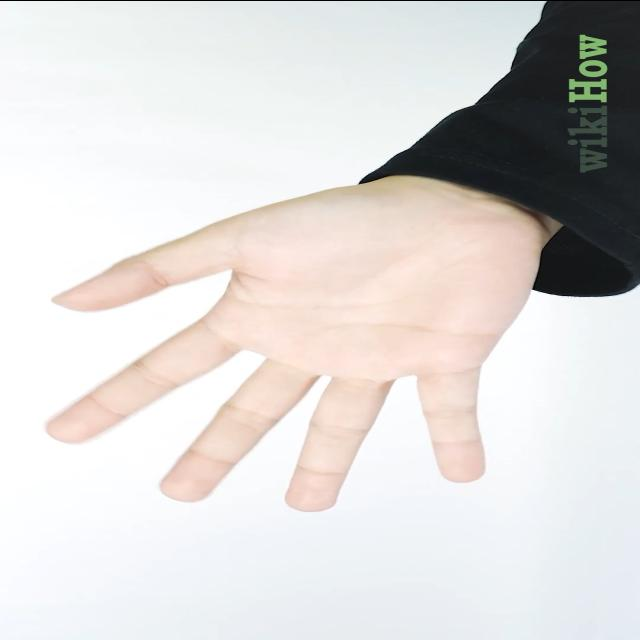Paper: (38, 180, 554, 513)
